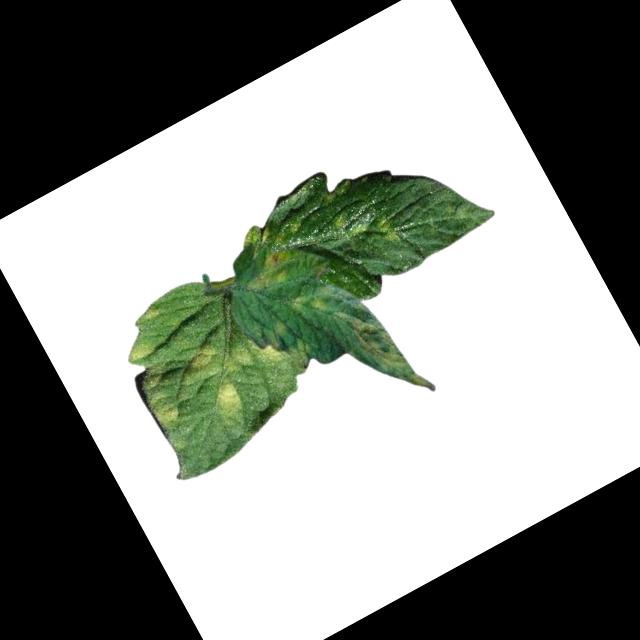Leaf_Mold: (237, 245, 302, 300), (226, 325, 285, 380), (198, 371, 251, 431), (174, 339, 228, 389), (235, 217, 279, 259), (149, 394, 189, 435), (285, 286, 326, 324), (123, 334, 160, 369), (371, 212, 402, 248)
